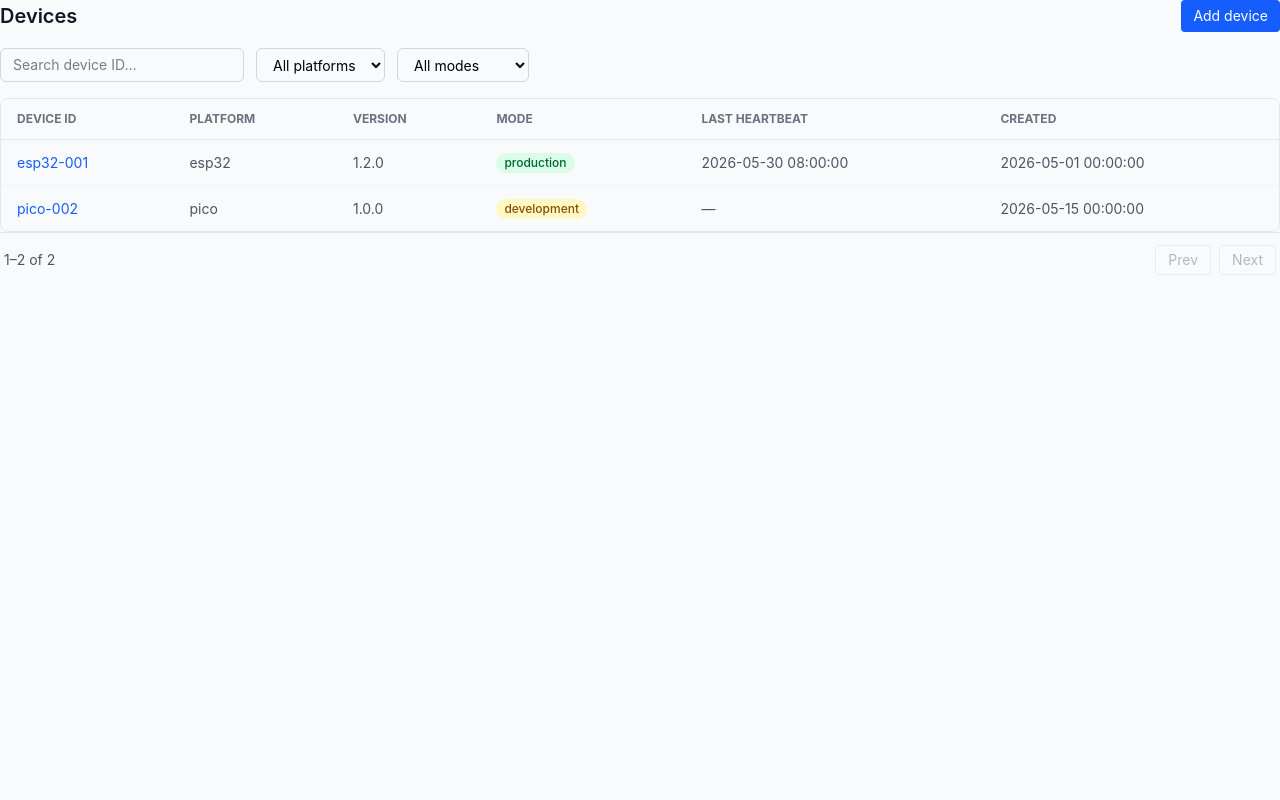
Test case: DevicesPage › opens the add device dialog
Click the button "Add device" at (1231, 16), box [1181,0,1279,32]
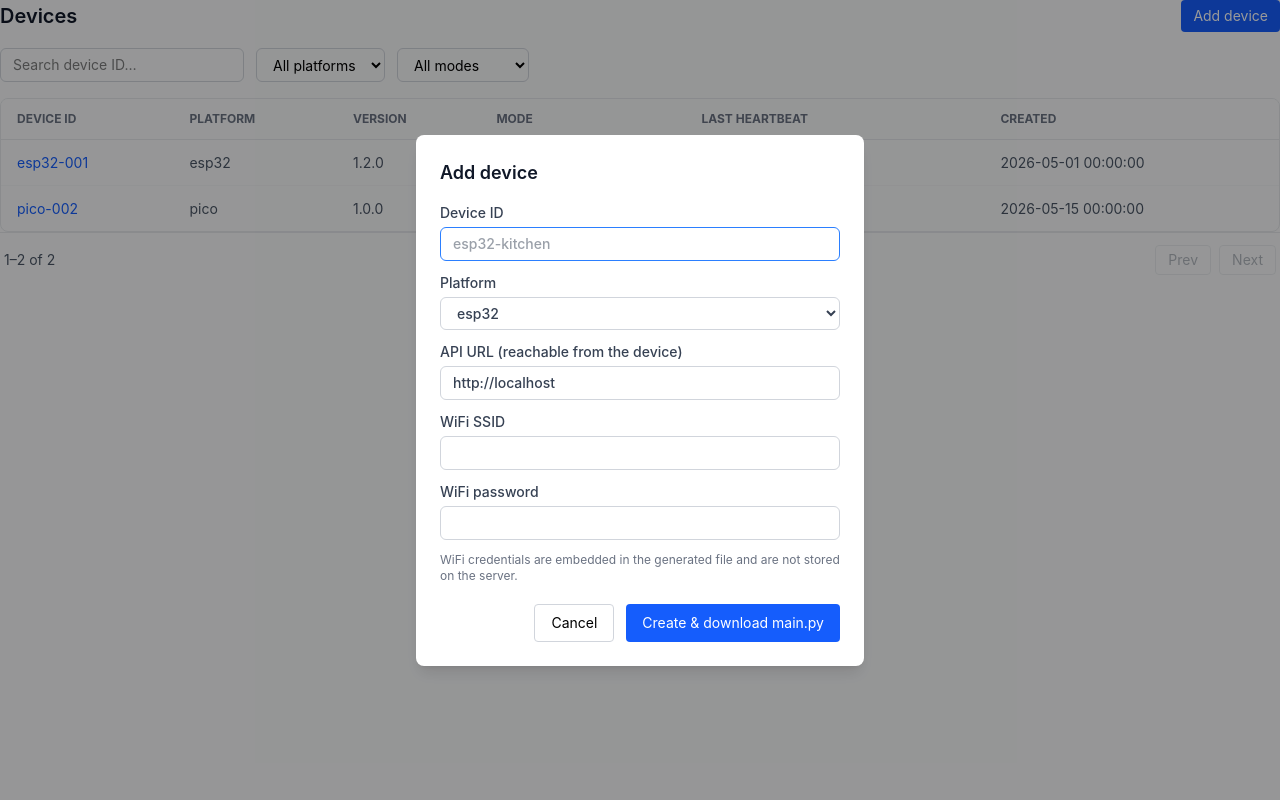
Check: the dialog "Add device" is shown
Check: the field labelled "Device ID" is shown, box [440,226,840,260]
Click the button "Cancel" at (574, 622), box [534,604,614,642]
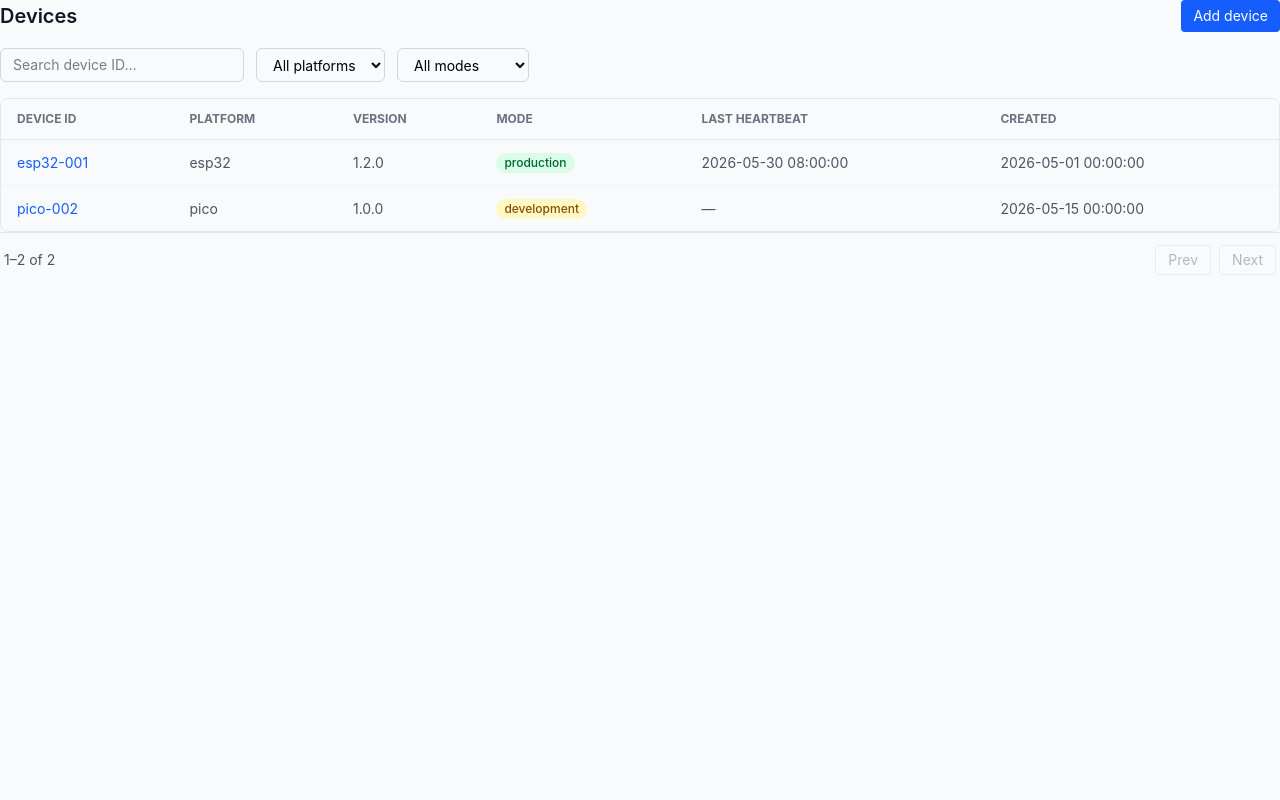
Check: the dialog is gone
